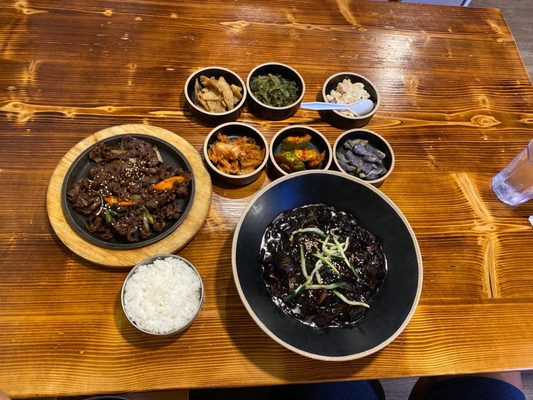sushi: (230, 171, 423, 361), (52, 122, 214, 263), (120, 254, 204, 337), (201, 122, 268, 187), (334, 129, 395, 188), (317, 72, 380, 129), (184, 66, 247, 121), (246, 63, 306, 120), (270, 126, 331, 175)
